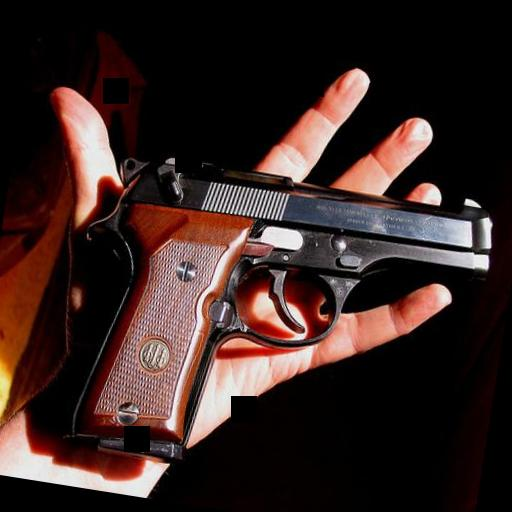Handgun: (54, 134, 498, 510)
